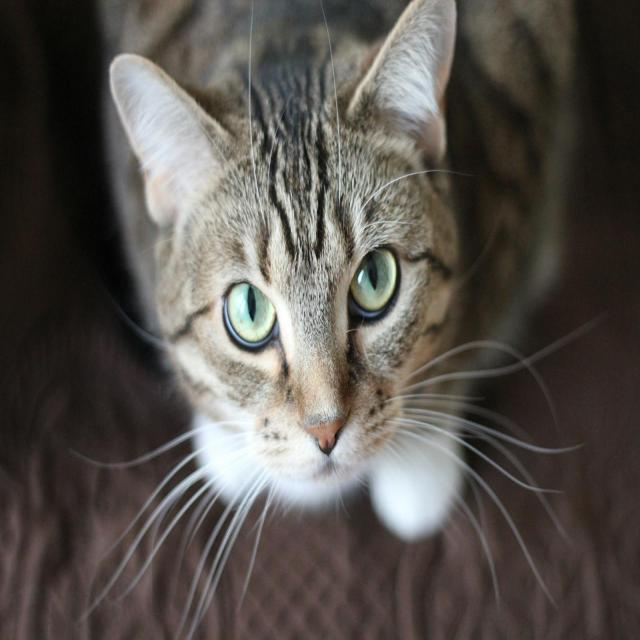Cat: (64, 0, 596, 638)
